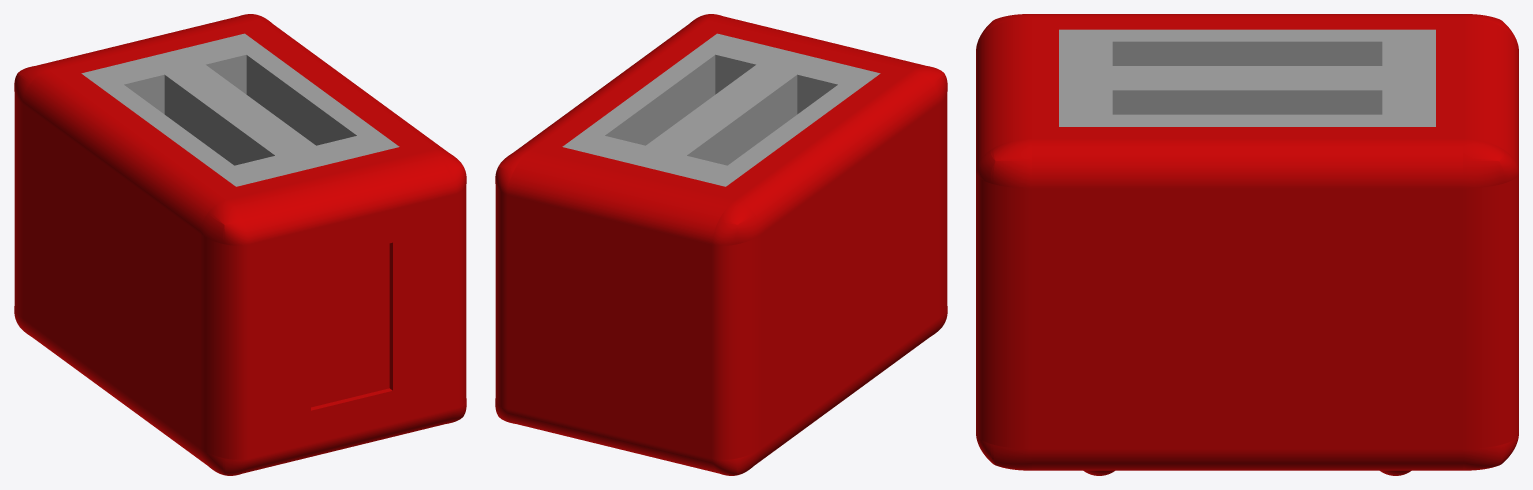
The model's file is toaster_template.obj.
3 views of the same model, side by side, from view 1: azimuth 30°, elevation 25°; view 2: azimuth 150°, elevation 25°; view 3: azimuth 270°, elevation 25° (orthographic). The views are drawn at different scales.
Parts seen in each view (by area): view 1: Cube; view 2: Cube; view 3: Cube.
Part boxes in pixels (x1,y1,x2,y2): Cube: [14, 14, 466, 475]; Cube: [495, 14, 947, 475]; Cube: [976, 14, 1518, 475].
Size of the model in its own units: 2 by 2.15 by 3.
